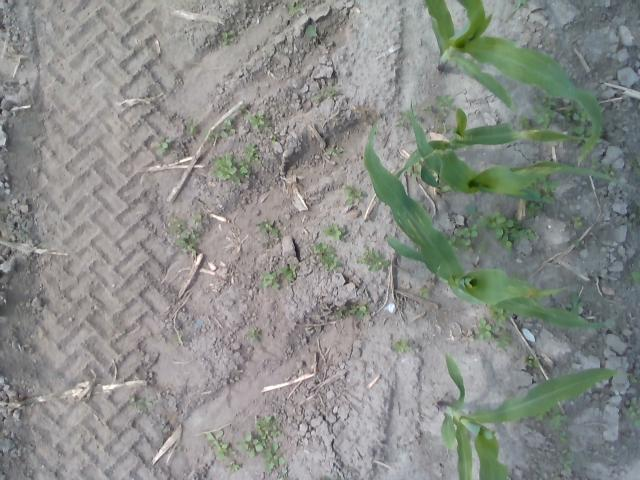Maize: (363, 123, 620, 330), (424, 0, 604, 166), (407, 98, 640, 203), (438, 352, 618, 480)
Weeds: (477, 208, 537, 253), (564, 97, 594, 145), (210, 152, 250, 184), (532, 93, 560, 131), (444, 223, 477, 254), (309, 241, 342, 271), (532, 403, 568, 430), (206, 429, 237, 460), (524, 172, 560, 198), (204, 118, 237, 144), (357, 246, 390, 271), (174, 227, 202, 255), (236, 432, 266, 458), (262, 440, 286, 472), (254, 415, 282, 440), (486, 302, 514, 326), (473, 318, 500, 342), (565, 292, 586, 316), (246, 110, 271, 130), (342, 184, 364, 206), (322, 222, 346, 242), (559, 450, 576, 474), (346, 302, 371, 318), (278, 264, 298, 284), (404, 156, 423, 177), (257, 219, 279, 237), (626, 399, 640, 427), (260, 271, 280, 290), (495, 328, 513, 349), (390, 338, 412, 354), (394, 110, 416, 126), (130, 394, 154, 408), (524, 200, 544, 216), (243, 143, 259, 163), (168, 216, 186, 233), (435, 94, 454, 110), (155, 137, 171, 156), (523, 351, 540, 368), (288, 0, 306, 15), (628, 261, 640, 282), (628, 153, 640, 174), (222, 30, 237, 46), (518, 114, 532, 130), (305, 24, 321, 38), (324, 146, 344, 156), (602, 162, 616, 176), (465, 204, 478, 219), (247, 327, 261, 340), (186, 118, 197, 134), (508, 270, 524, 280), (556, 431, 568, 444), (572, 215, 582, 230), (334, 305, 344, 318), (192, 211, 202, 224), (324, 86, 338, 95), (590, 158, 602, 168), (419, 287, 429, 298), (435, 112, 446, 122), (628, 372, 638, 383), (228, 461, 240, 470), (172, 332, 180, 344), (572, 236, 580, 248), (636, 200, 640, 220), (426, 103, 434, 112), (269, 134, 277, 143), (430, 169, 438, 178), (437, 126, 447, 132), (313, 94, 322, 100), (554, 476, 563, 480), (626, 221, 632, 226)
